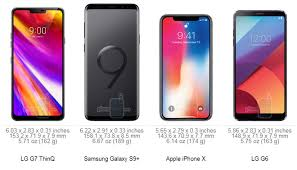lg: (7, 3, 66, 124)
